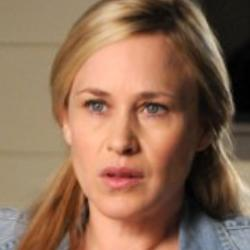face: (24, 2, 243, 230)
